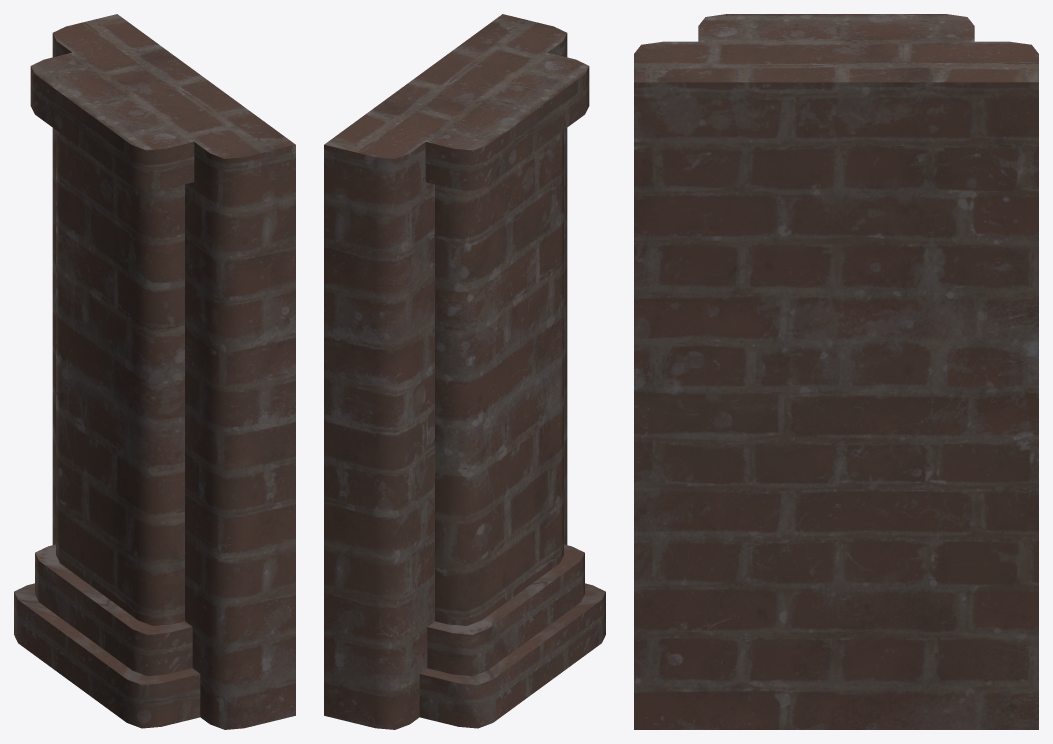
Rendered from Kit_BricksThickColon.fbx.
3 views of the same model, side by side, from view 1: azimuth 30°, elevation 25°; view 2: azimuth 150°, elevation 25°; view 3: azimuth 270°, elevation 25° (orthographic). The views are drawn at different scales.
Visible parts, largest first — view 1: Kit_BricksThickColon; view 2: Kit_BricksThickColon; view 3: Kit_BricksThickColon.
Part boxes in pixels (<box>): Kit_BricksThickColon: <box>14,14,295,729</box>; Kit_BricksThickColon: <box>324,14,605,729</box>; Kit_BricksThickColon: <box>634,14,1038,729</box>.
Bounding box in the file's own units: 10.73 × 43.68 × 24.76.
